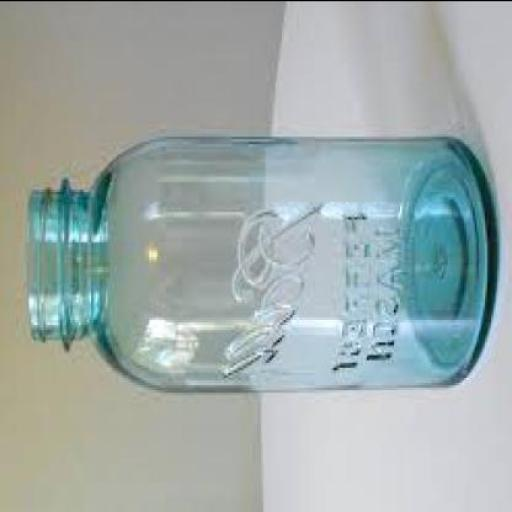glass: (25, 136, 493, 386)
